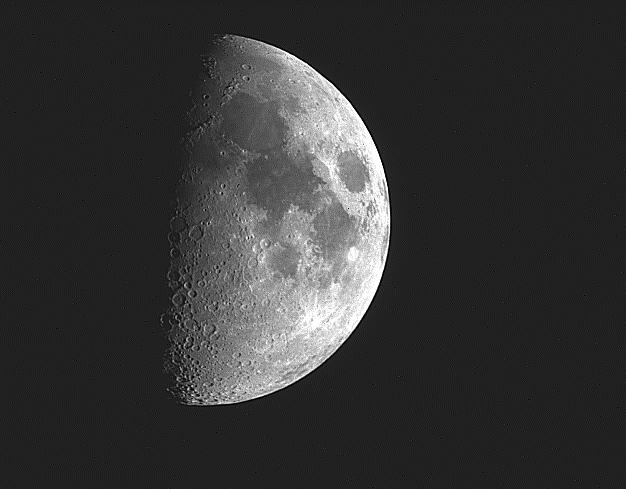crater: (333, 146, 372, 200), (247, 333, 273, 356), (342, 244, 363, 266), (168, 213, 187, 236), (187, 223, 205, 245), (165, 243, 182, 260), (170, 291, 187, 307), (204, 321, 220, 337), (256, 293, 272, 309), (244, 256, 261, 271), (257, 237, 274, 252), (199, 89, 220, 101), (228, 347, 244, 362), (284, 74, 297, 90), (217, 145, 230, 161), (238, 59, 253, 72), (239, 74, 253, 87), (261, 148, 273, 163), (198, 100, 217, 109), (286, 207, 295, 218), (220, 179, 229, 190), (312, 99, 321, 108)
